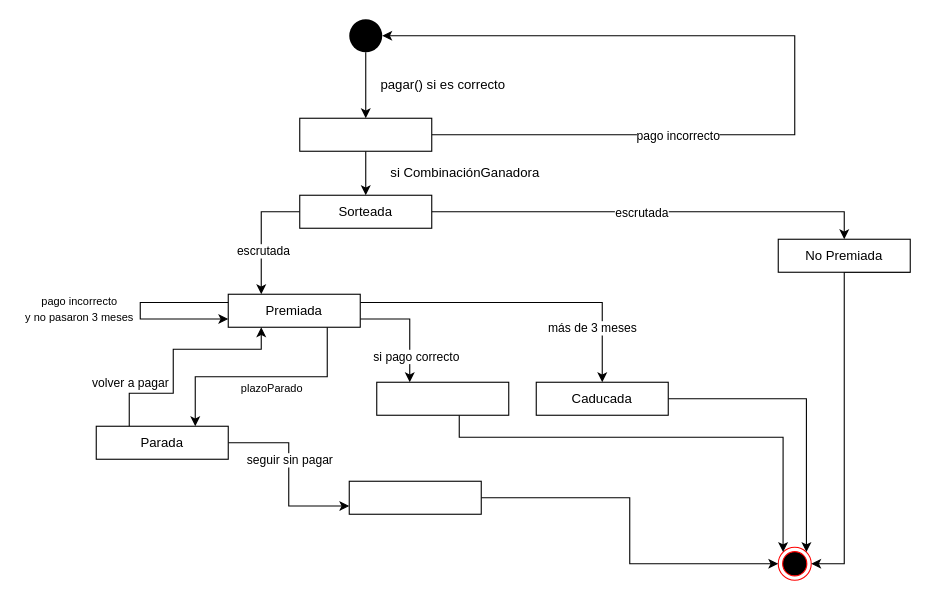
Image size: 938x600. Some labels were removed from this diagram. The centre of each missing label's shape, as x and y in pixels:
Anulada: point 414,497
Pagada: point 442,398
Validada: point 365,134
